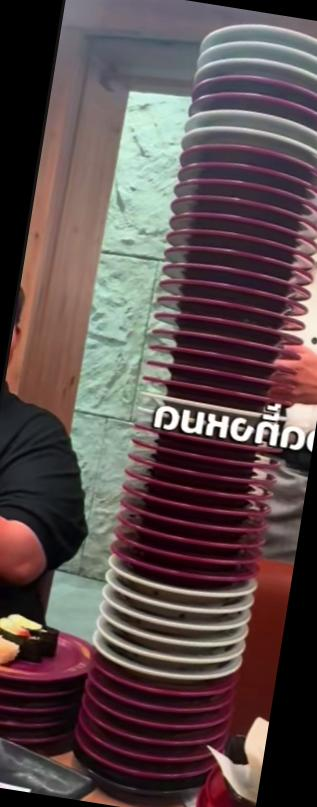Janback: (80, 774, 196, 806)
Janred: (0, 616, 92, 688), (178, 184, 302, 224), (179, 152, 313, 189), (159, 272, 285, 310), (149, 305, 280, 341), (183, 136, 314, 171), (146, 338, 272, 374), (161, 253, 289, 288), (194, 66, 317, 102), (151, 322, 276, 357), (172, 220, 296, 255), (158, 292, 284, 326), (143, 356, 270, 389), (178, 203, 297, 238), (186, 170, 308, 204), (168, 243, 292, 276), (194, 85, 316, 118), (141, 375, 266, 406), (133, 524, 248, 556), (142, 445, 262, 475), (87, 738, 202, 768), (146, 429, 260, 458), (142, 496, 252, 525), (143, 478, 249, 508), (124, 558, 236, 586), (92, 706, 204, 734), (134, 544, 244, 572), (145, 461, 250, 490), (140, 512, 250, 538), (98, 724, 194, 752), (109, 676, 208, 701), (103, 693, 202, 718), (95, 755, 186, 782), (0, 670, 68, 705), (0, 691, 55, 719), (14, 726, 67, 748), (0, 706, 45, 731)
Janwhite: (197, 11, 317, 51), (187, 102, 317, 136), (199, 31, 317, 66), (108, 620, 228, 654), (190, 119, 310, 151), (199, 48, 317, 80), (114, 590, 224, 622), (116, 576, 229, 606), (139, 391, 260, 417), (109, 642, 218, 670), (112, 610, 216, 636), (112, 658, 213, 684)
